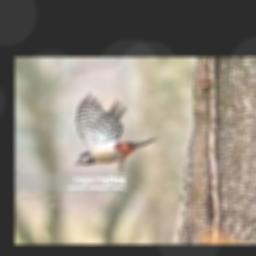Woodpecker: (74, 92, 158, 171)
